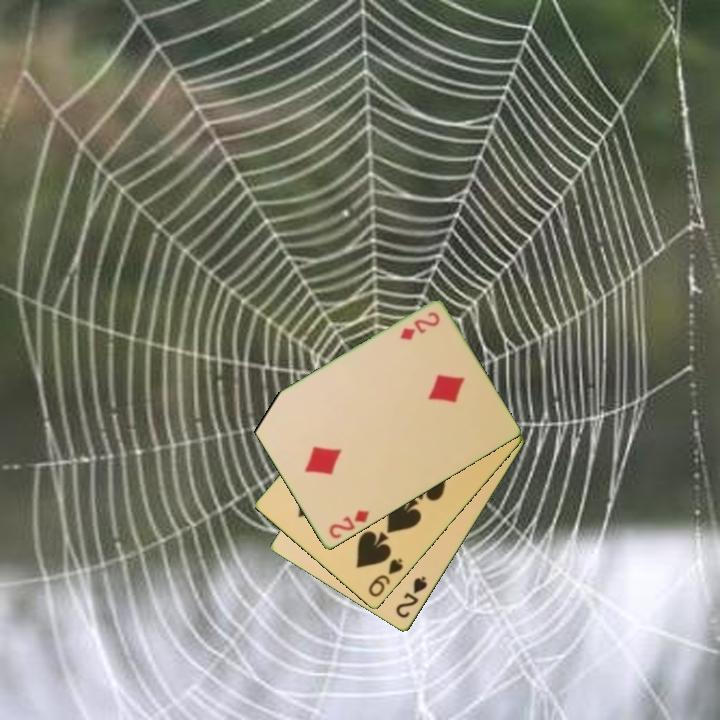2d: (396, 308, 443, 344), (325, 507, 372, 542)
2s: (392, 573, 430, 622)
9s: (365, 555, 406, 600)
